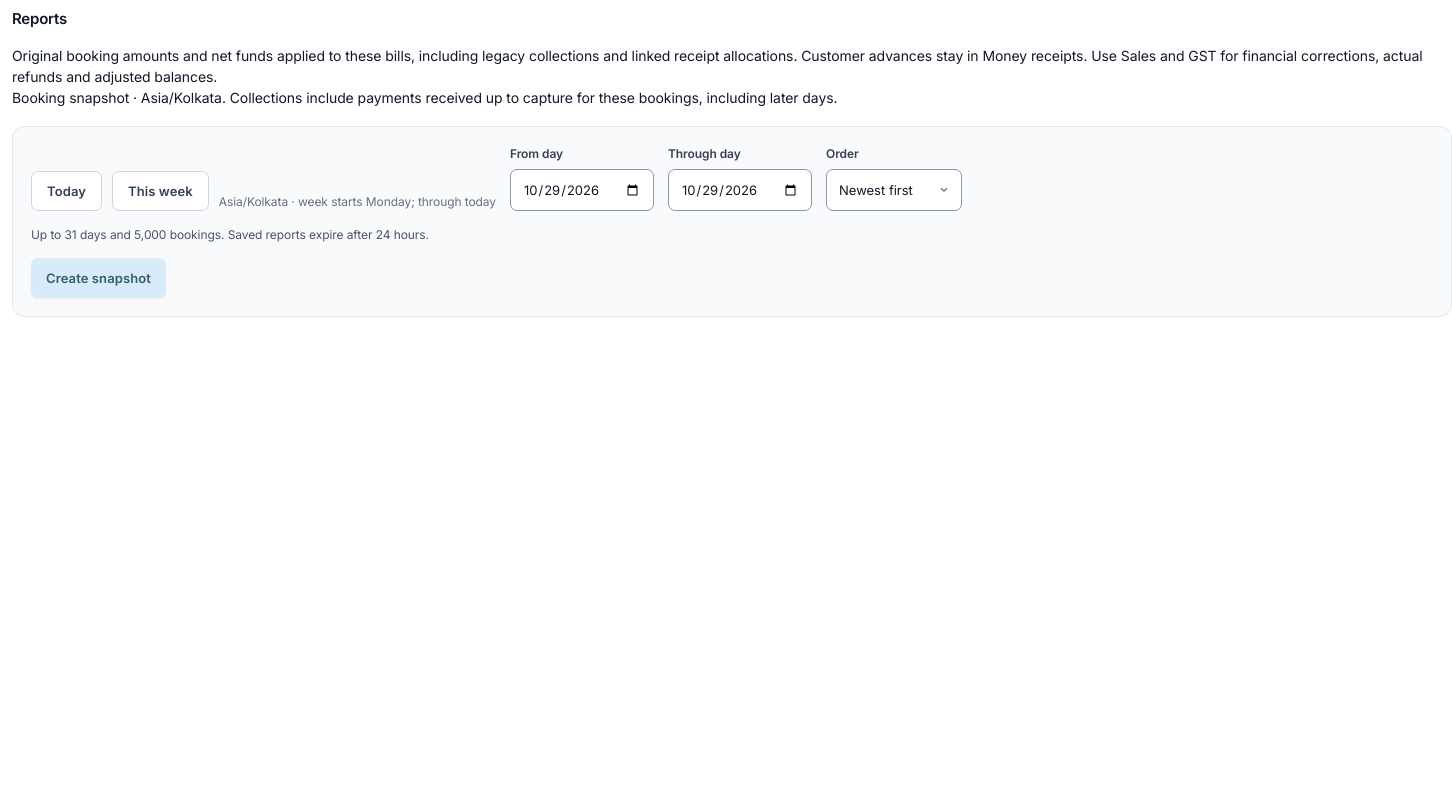
Test: saved report screen › an uncertain capture retries the same immutable request after editing the draft
Click the button "Create snapshot" at (98, 278), box x1=31 y1=258 x2=166 y2=298
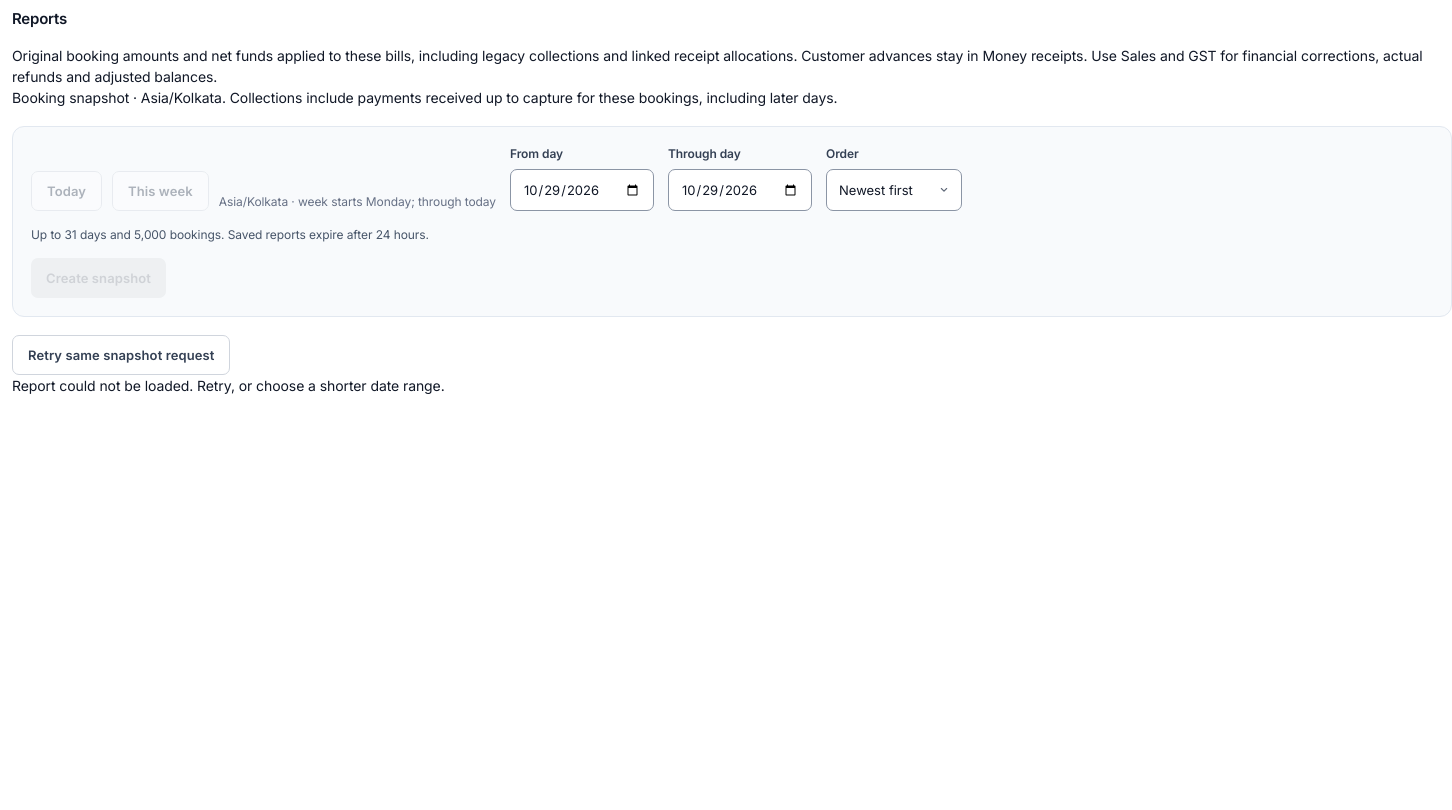
Type "2026-09-01" into the date field labelled "From day" at (582, 190), box x1=510 y1=169 x2=654 y2=211
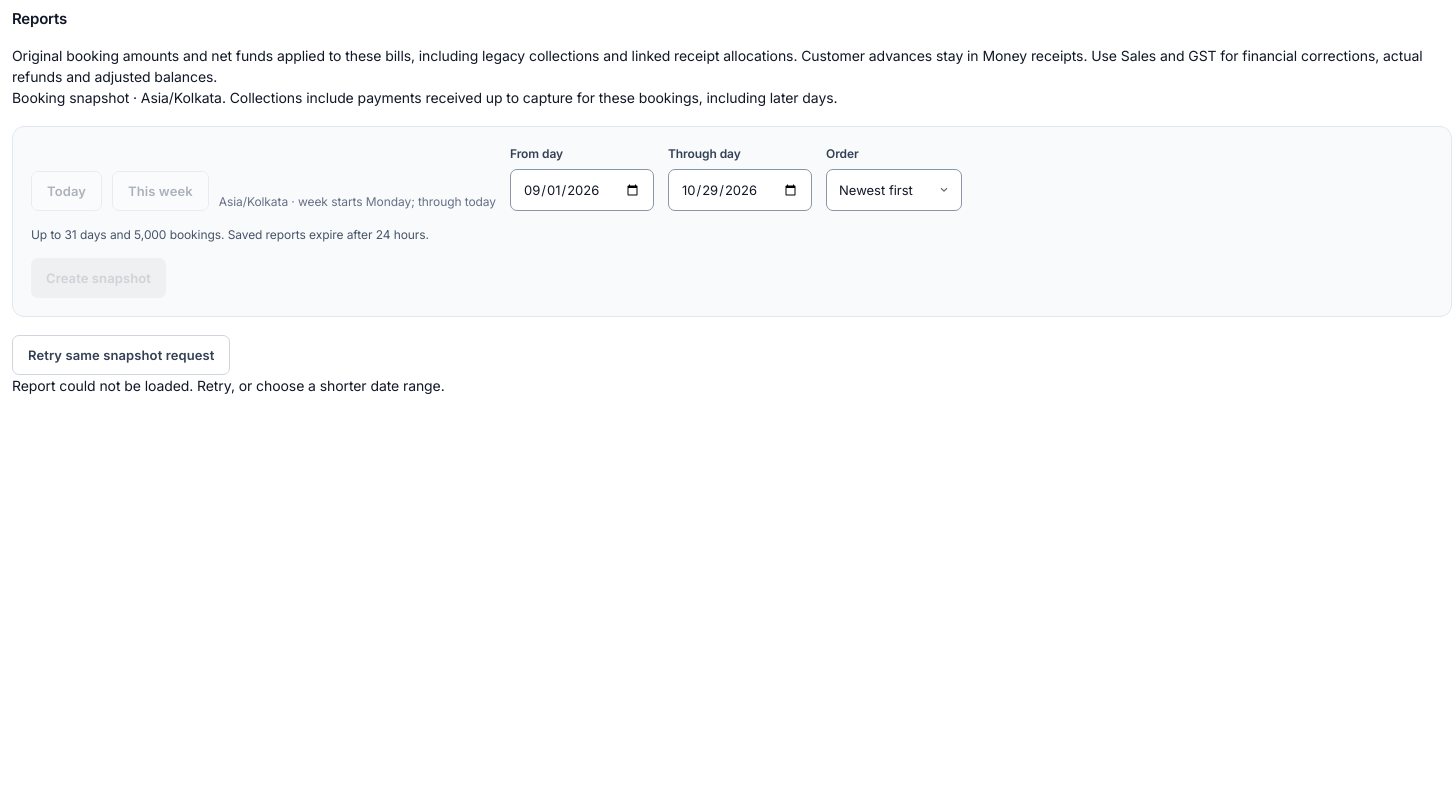
Click the button "Retry same snapshot request" at (121, 355), box x1=12 y1=335 x2=230 y2=375
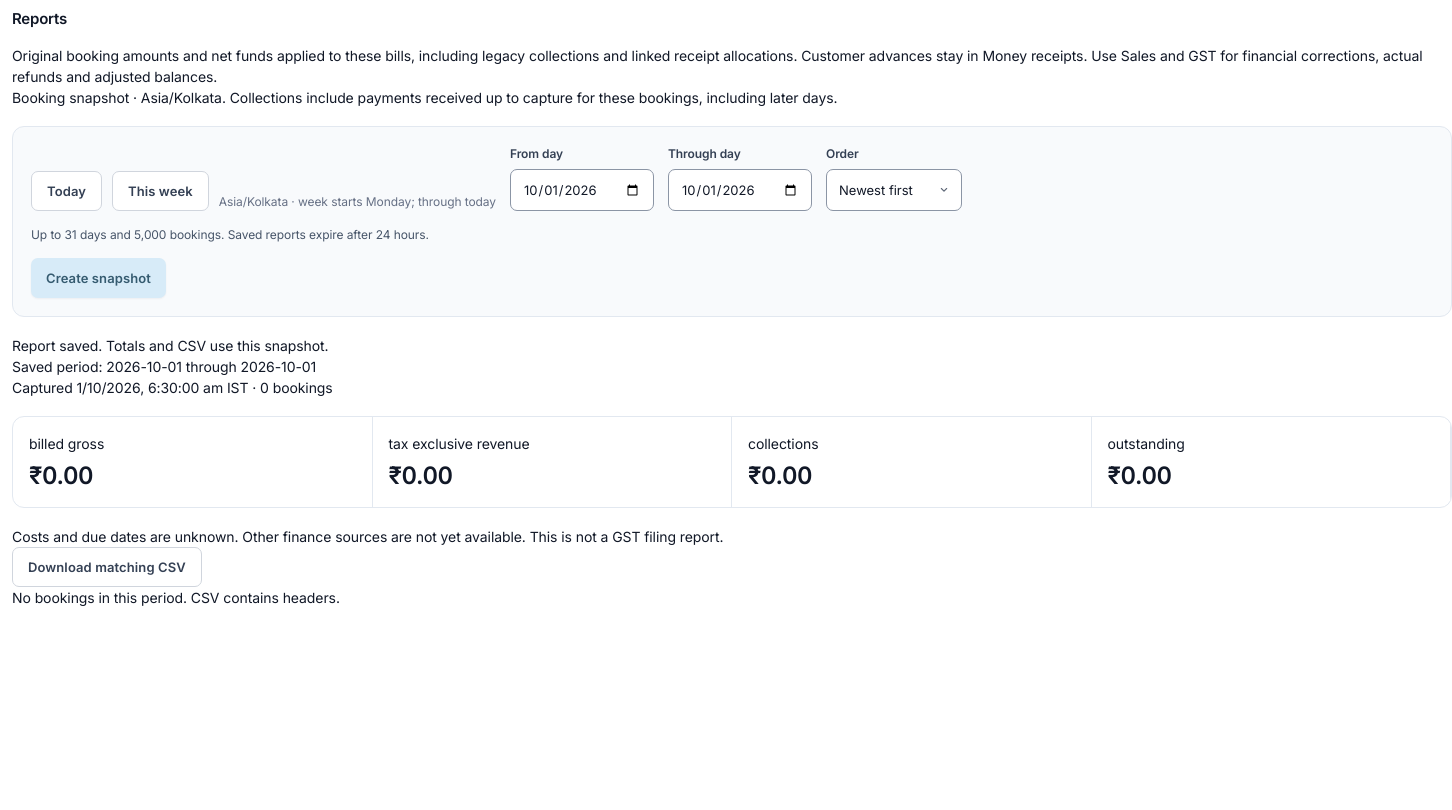
Check: the text "No bookings in this period. CSV contains headers." is shown, box x1=12 y1=589 x2=340 y2=606
